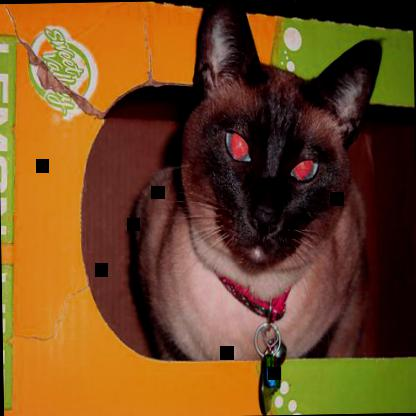cat: (133, 0, 388, 369)
